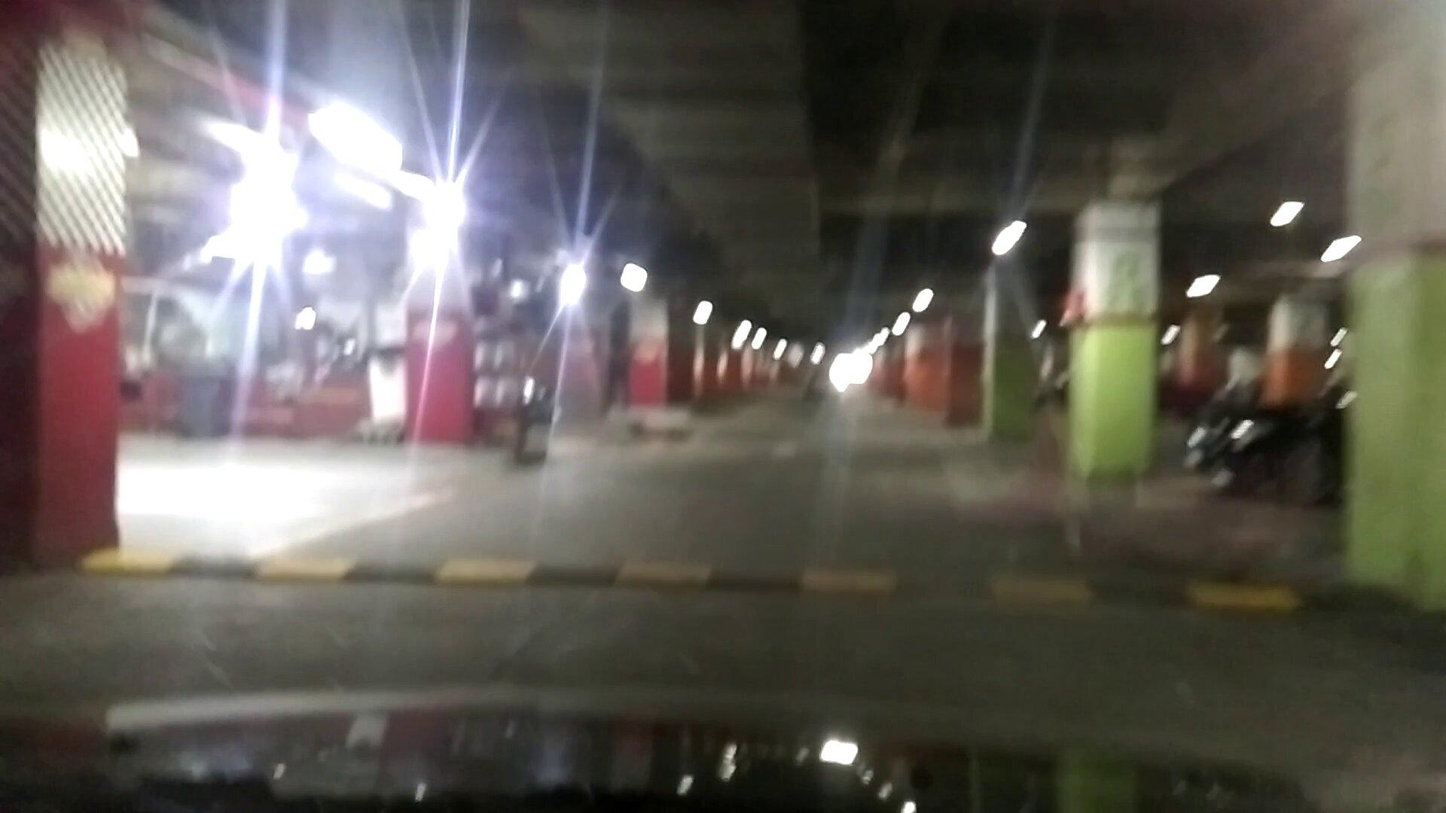Bump: (104, 531, 1393, 636)
